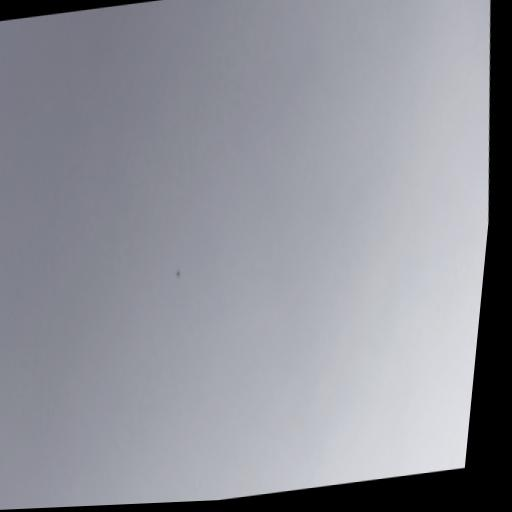drones: (174, 268, 182, 280)
